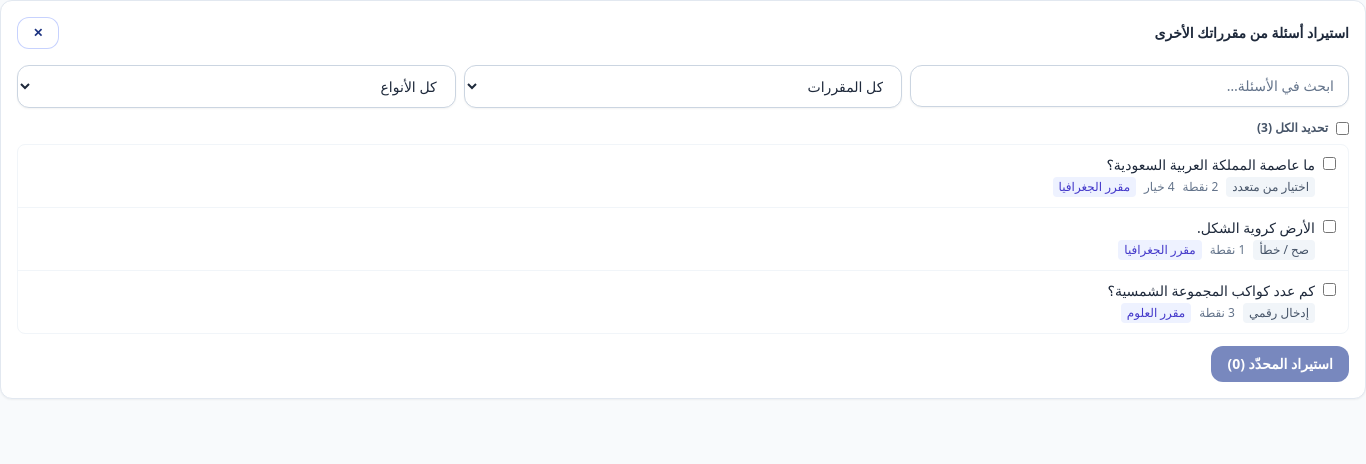
QuestionImportPicker — E5 › يُظهر ErrorMsg (role=alert) عند فشل POST import
Expected: the text "ما عاصمة المملكة العربية السعودية؟" is shown, x1=1106 y1=155 x2=1315 y2=174
Click the checkbox labelled "ما عاصمة المملكة" at (1330, 164), box x1=1323 y1=157 x2=1336 y2=170
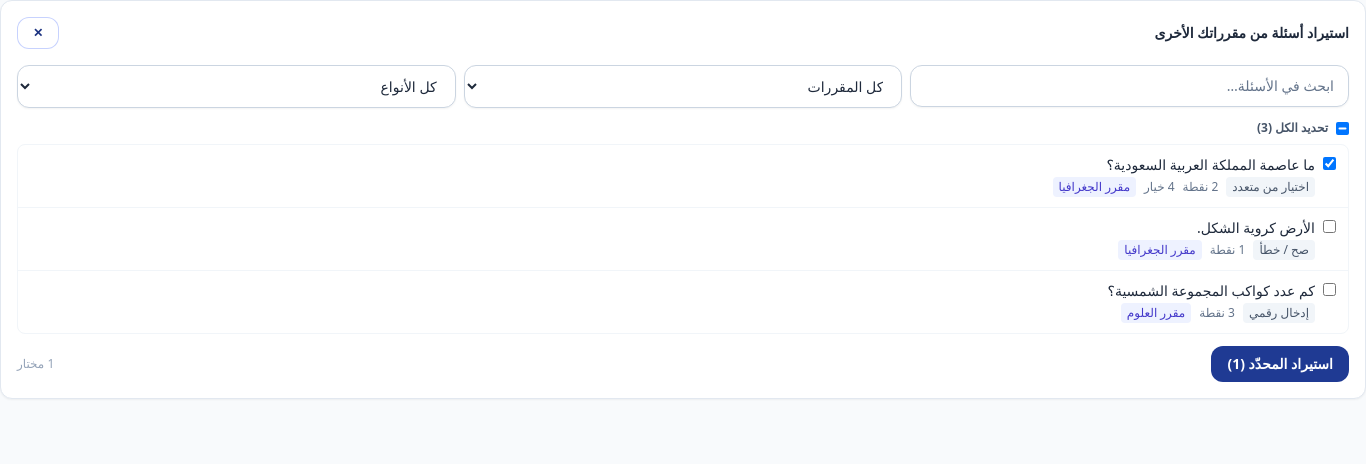
Click the button "استيراد المحدّد (1)" at (1280, 364), box x1=1211 y1=346 x2=1349 y2=382
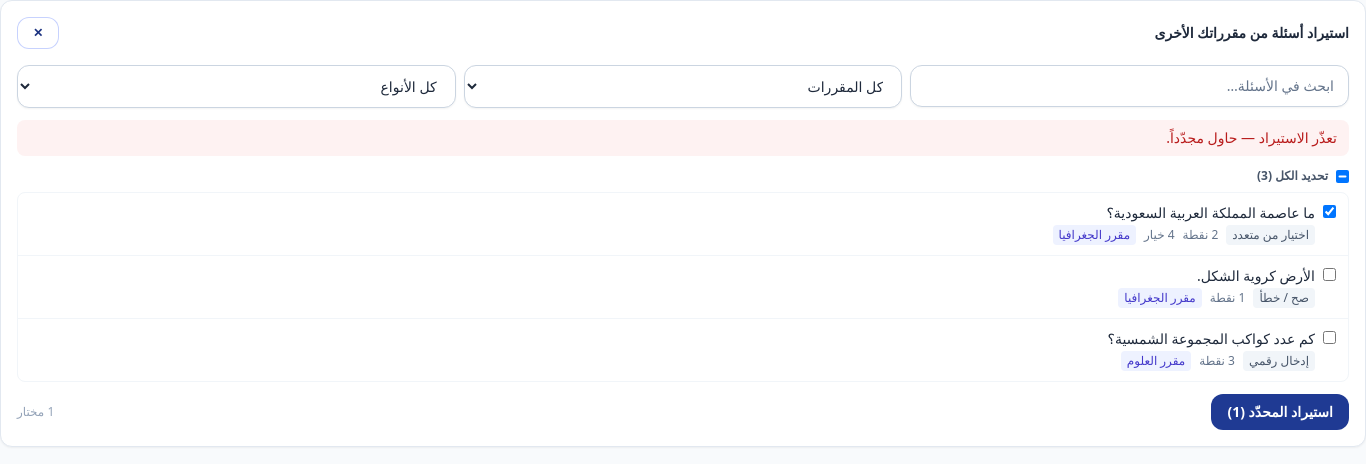
Now the message "تعذّر الاستيراد — حاول مجدّداً." is shown, box x1=17 y1=120 x2=1349 y2=156
Now the message shows "تعذّر الاستيراد", box x1=1166 y1=128 x2=1337 y2=147
